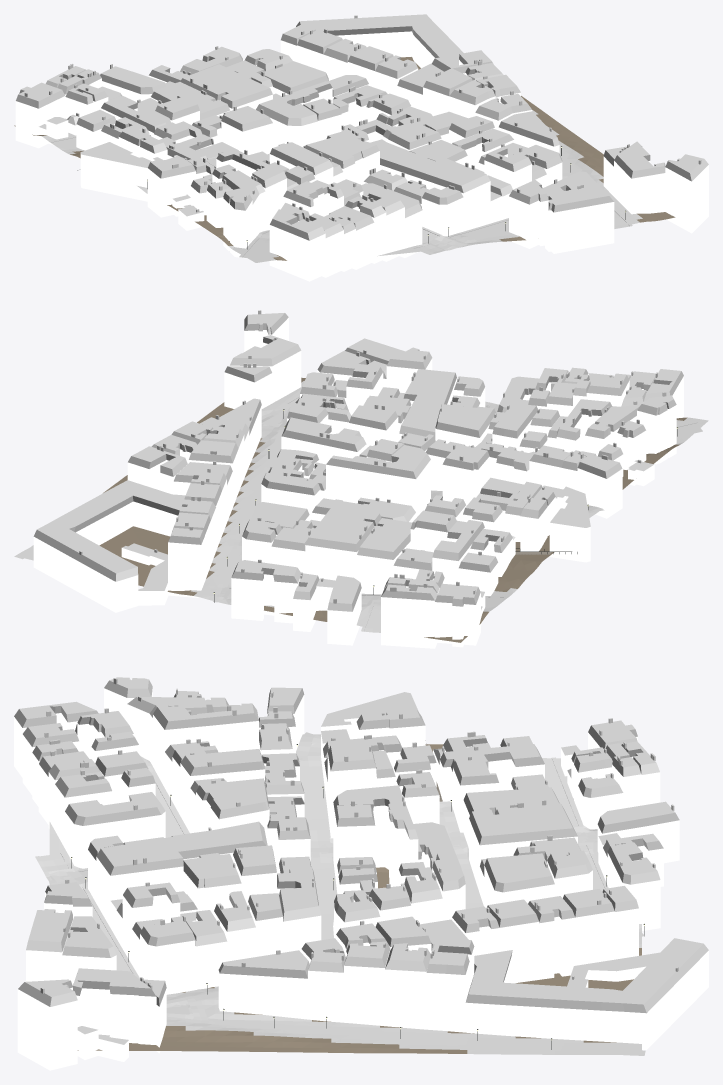
File: zone_G5.glb
3 renders of one model, top to bottom at view 1: azimuth 30°, elevation 25°; view 2: azimuth 150°, elevation 25°; view 3: azimuth 270°, elevation 25°, orthographic. The views are drawn at different scales.
Visible parts, largest first — view 1: zone_G5_batiments, zone_G5_terrain, zone_G5_sol_NOCOL; view 2: zone_G5_batiments, zone_G5_terrain, zone_G5_sol_NOCOL; view 3: zone_G5_batiments, zone_G5_terrain, zone_G5_sol_NOCOL.
Part boxes in pixels (bbox=[...]): zone_G5_batiments: bbox=[15, 14, 708, 281]; zone_G5_terrain: bbox=[14, 57, 675, 262]; zone_G5_sol_NOCOL: bbox=[49, 135, 632, 259]; zone_G5_batiments: bbox=[33, 310, 683, 648]; zone_G5_terrain: bbox=[25, 377, 708, 642]; zone_G5_sol_NOCOL: bbox=[14, 394, 702, 632]; zone_G5_batiments: bbox=[14, 677, 708, 1070]; zone_G5_terrain: bbox=[49, 734, 641, 1054]; zone_G5_sol_NOCOL: bbox=[35, 732, 645, 1055].
Size of the model in its own units: 211 by 45.49 by 215.
